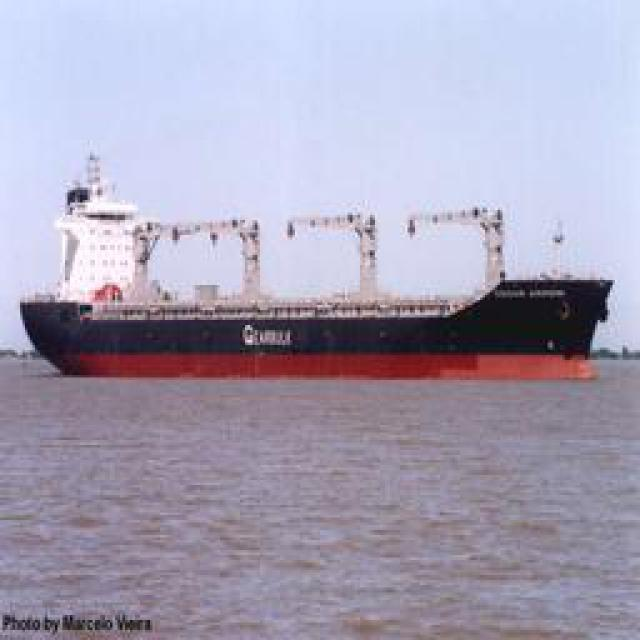Ship: (28, 142, 606, 375)
